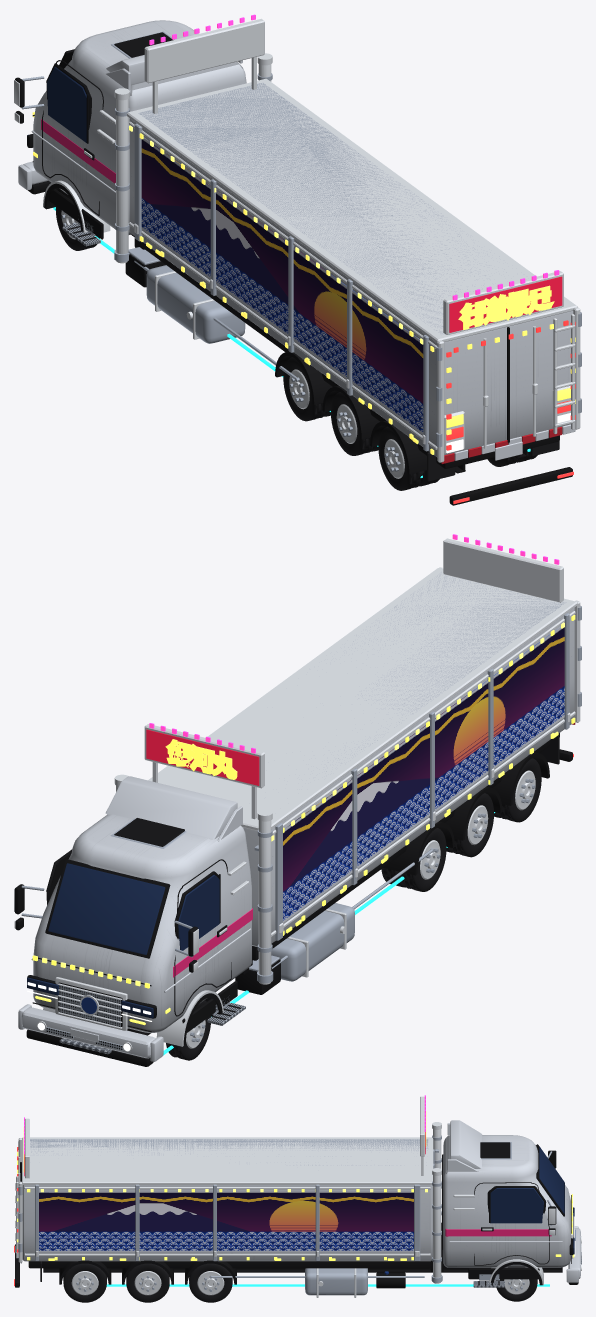
Rendered from dekotora_truck_longo_aero.glb.
The picture shows the model from 3 angles, top to bottom: view 1: azimuth 30°, elevation 25°; view 2: azimuth 150°, elevation 25°; view 3: azimuth 270°, elevation 25°; orthographic projection. The views are drawn at different scales.
Visible parts, largest first — view 1: truck_chrome, truck_steel, truck_paint_white_panel, truck_mural, truck_plastic_black, truck_lamp_amber, truck_paint_white, truck_glass, wheel_r_L_1.5_1.06, wheel_r_L_3.0_1.06, wheel_r_L_4.5_1.06, truck_andon_panel (+4 smaller); view 2: truck_chrome, truck_paint_white_panel, truck_mural, truck_steel, truck_plastic_black, truck_glass, truck_paint_white, truck_lamp_amber, truck_andon_panel, wheel_r_L_1.5_1.06, wheel_r_L_4.5_1.06, wheel_r_L_3.0_1.06 (+4 smaller); view 3: truck_chrome, truck_mural, truck_paint_white_panel, truck_steel, truck_plastic_black, truck_glass, truck_paint_white, wheel_r_R_1.5_1.06, wheel_r_R_3.0_1.06, wheel_r_R_4.5_1.06, truck_paint_pink, wheel_f_R (+2 smaller).
Boxes of the visible parts, bbox=[...] form: truck_chrome: bbox=[14, 18, 580, 462]; truck_steel: bbox=[21, 31, 581, 451]; truck_paint_white_panel: bbox=[33, 20, 573, 457]; truck_mural: bbox=[141, 137, 423, 434]; truck_plastic_black: bbox=[15, 32, 572, 505]; truck_lamp_amber: bbox=[32, 112, 575, 454]; truck_paint_white: bbox=[18, 55, 575, 460]; truck_glass: bbox=[27, 66, 87, 143]; wheel_r_L_1.5_1.06: bbox=[378, 426, 424, 490]; wheel_r_L_3.0_1.06: bbox=[331, 392, 374, 455]; wheel_r_L_4.5_1.06: bbox=[283, 357, 326, 421]; truck_andon_panel: bbox=[449, 276, 562, 332]; truck_chrome: bbox=[14, 538, 580, 1052]; truck_paint_white_panel: bbox=[33, 608, 574, 1032]; truck_mural: bbox=[283, 626, 564, 922]; truck_steel: bbox=[21, 572, 581, 1015]; truck_plastic_black: bbox=[15, 733, 572, 1066]; truck_glass: bbox=[27, 863, 219, 1018]; truck_paint_white: bbox=[18, 776, 251, 1061]; truck_lamp_amber: bbox=[32, 615, 575, 1025]; truck_andon_panel: bbox=[146, 729, 259, 785]; wheel_r_L_1.5_1.06: bbox=[497, 758, 541, 822]; wheel_r_L_4.5_1.06: bbox=[400, 828, 446, 891]; wheel_r_L_3.0_1.06: bbox=[450, 793, 493, 857]; truck_chrome: bbox=[15, 1096, 581, 1297]; truck_mural: bbox=[39, 1191, 413, 1252]; truck_paint_white_panel: bbox=[22, 1135, 570, 1267]; truck_steel: bbox=[18, 1135, 552, 1295]; truck_plastic_black: bbox=[15, 1142, 578, 1288]; truck_glass: bbox=[490, 1146, 574, 1254]; truck_paint_white: bbox=[21, 1120, 581, 1282]; wheel_r_R_1.5_1.06: bbox=[63, 1263, 106, 1302]; wheel_r_R_3.0_1.06: bbox=[126, 1263, 169, 1302]; wheel_r_R_4.5_1.06: bbox=[189, 1263, 232, 1302]; truck_paint_pink: bbox=[445, 1228, 551, 1236]; wheel_f_R: bbox=[496, 1267, 537, 1301].
Bounding box in the file's own units: 3.28 × 4.47 × 13.56.
Materials: 21 (5 with a texture image).
